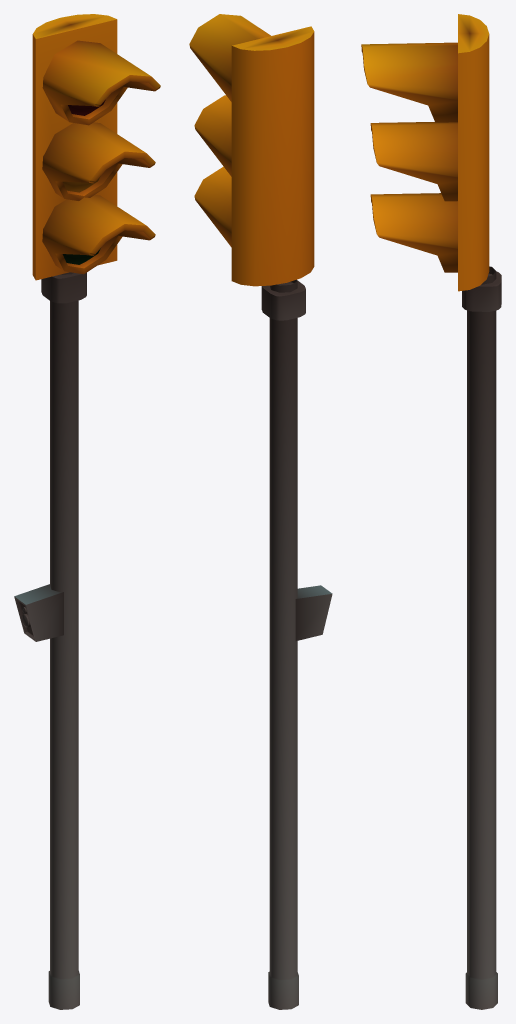
File: SmallTrafficLight_ThreeLight.fbx
3 views of the same model, side by side, from view 1: azimuth 30°, elevation 25°; view 2: azimuth 210°, elevation 25°; view 3: azimuth 270°, elevation 25° (orthographic). The views are drawn at different scales.
Parts seen in each view (by area): view 1: SmallTrafficLight_ThreeLight; view 2: SmallTrafficLight_ThreeLight; view 3: SmallTrafficLight_ThreeLight.
Part boxes in pixels (left/top/right/bottom): SmallTrafficLight_ThreeLight: left=14, top=14, right=160, bottom=1009; SmallTrafficLight_ThreeLight: left=189, top=14, right=332, bottom=1009; SmallTrafficLight_ThreeLight: left=361, top=14, right=501, bottom=1009.
Bounding box in the file's own units: 33.61 × 370 × 48.46.
